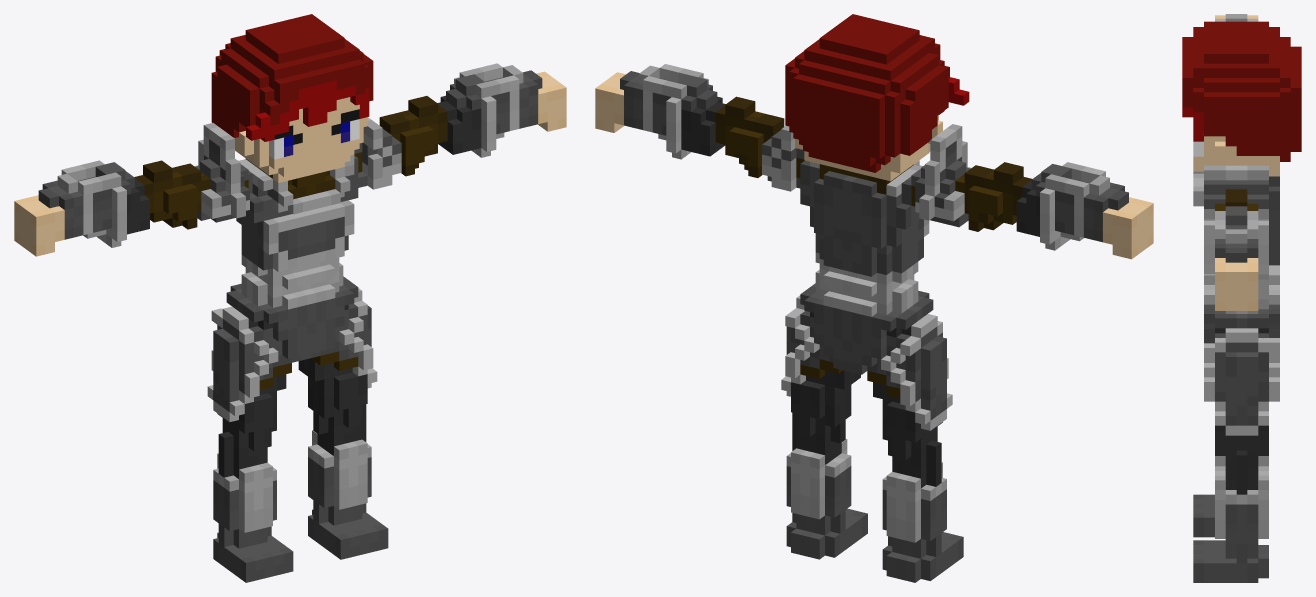
The model's file is newcharactor1.fbx.
The picture shows the model from 3 angles, left to right: view 1: azimuth 30°, elevation 25°; view 2: azimuth 150°, elevation 25°; view 3: azimuth 270°, elevation 25°; orthographic projection. The views are drawn at different scales.
Parts seen in each view (by area): view 1: Matrix; view 2: Matrix; view 3: Matrix.
Boxes of the visible parts, <box> form: Matrix: <box>14,14,566,582</box>; Matrix: <box>595,14,1153,582</box>; Matrix: <box>1182,14,1301,582</box>.
Size of the model in its own units: 56 by 52 by 11.
1 material, 1 textured.
